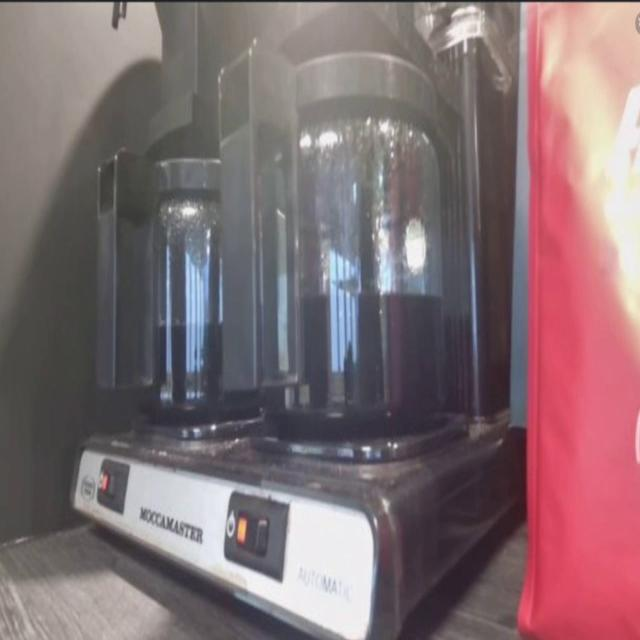coffee: (267, 164, 439, 433), (142, 219, 253, 423)
